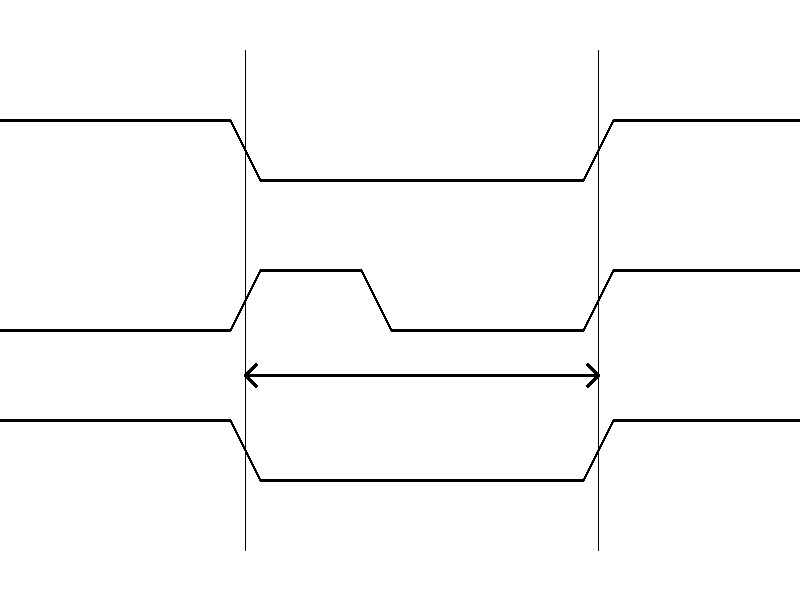double_arrow: (245, 360, 598, 390)
